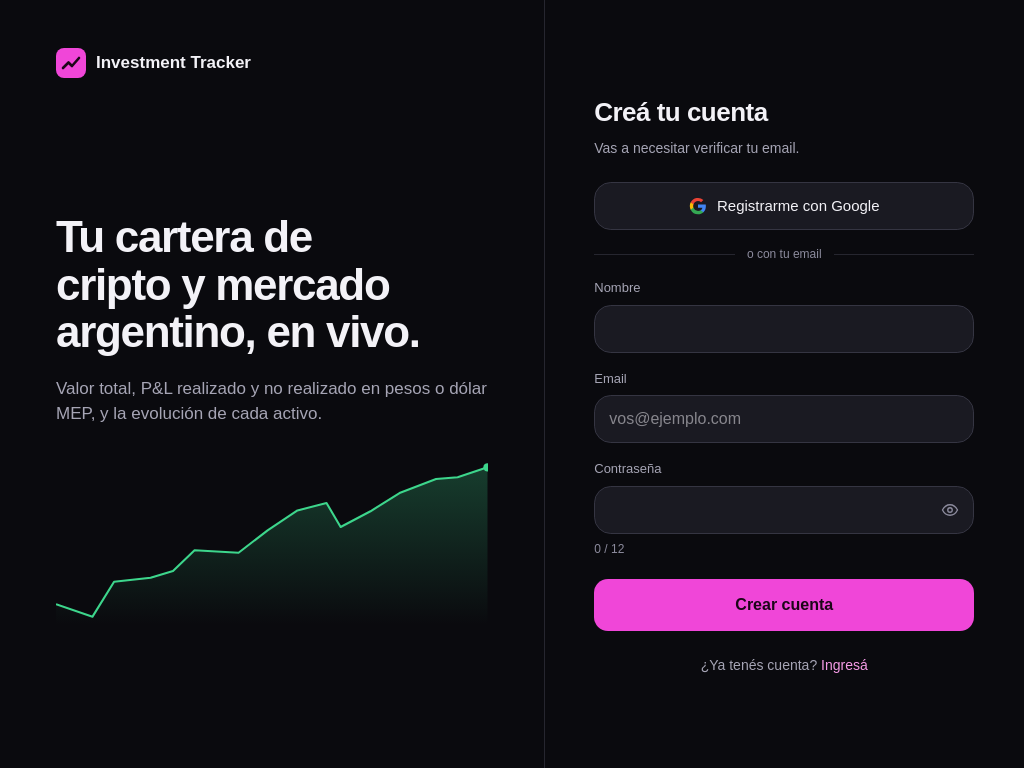
/register › shows a retryable error on a busy service
The image size is (1024, 768).
expect the heading "Creá tu cuenta" is shown: met, box [594,97,768,127]
Type "  Rami  " into the field labelled "Nombre".
click(784, 329); type("  Rami  ")  # box [594,305,974,353]
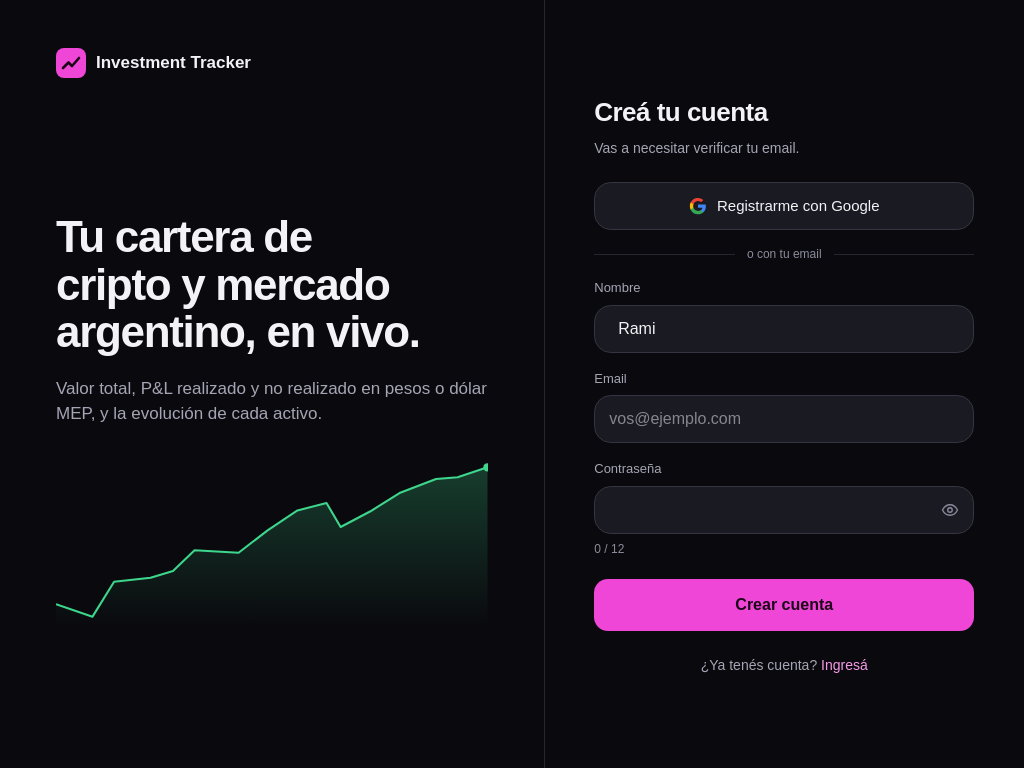
Type "rami@example.com" into the field labelled "Email".
click(784, 419); type("rami@example.com")  # box [594,395,974,443]
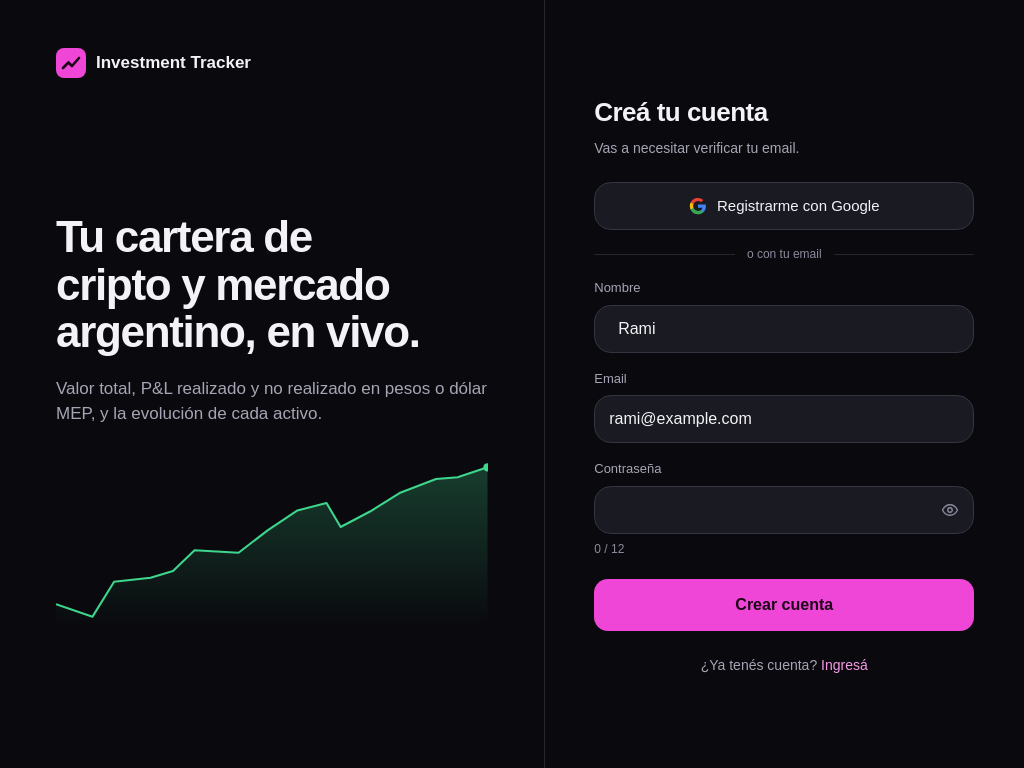
Type "correct horse battery" into the password field labelled "Contraseña".
click(784, 510); type("correct horse battery")  # box [594,486,974,534]
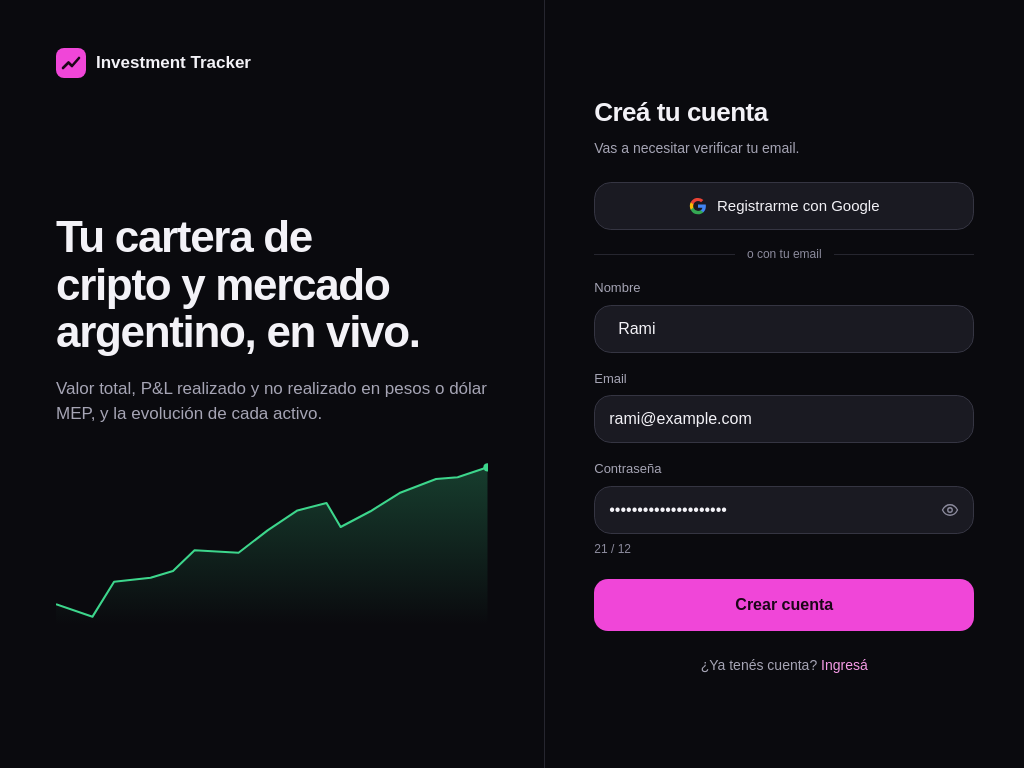
Click the button "Crear cuenta".
click(784, 605)  # box [594,579,974,631]
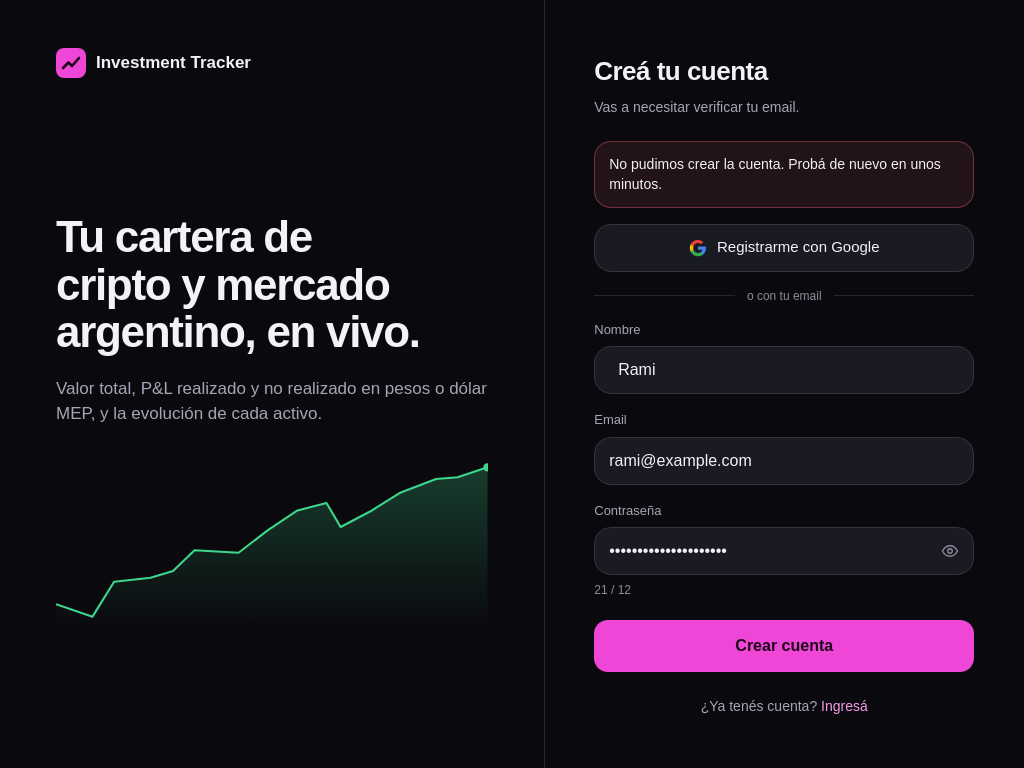
expect the button "Crear cuenta" is enabled: met, box [594,620,974,672]
expect the message reads "No pudimos crear la cuenta. Probá de nuevo en unos minutos.": met, box [609,156,941,192]
